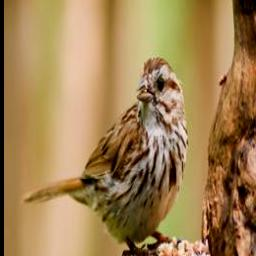Sparrow: (22, 54, 189, 256)
